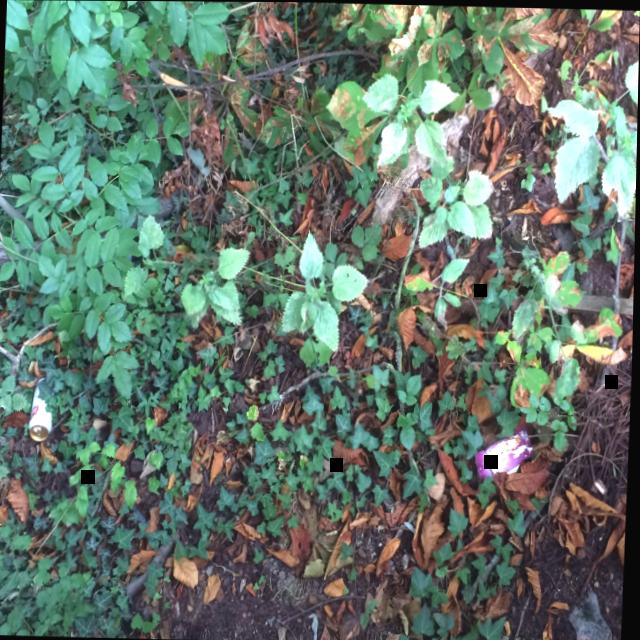Drink can: (29, 377, 53, 442)
Other plastic: (475, 424, 535, 480)
